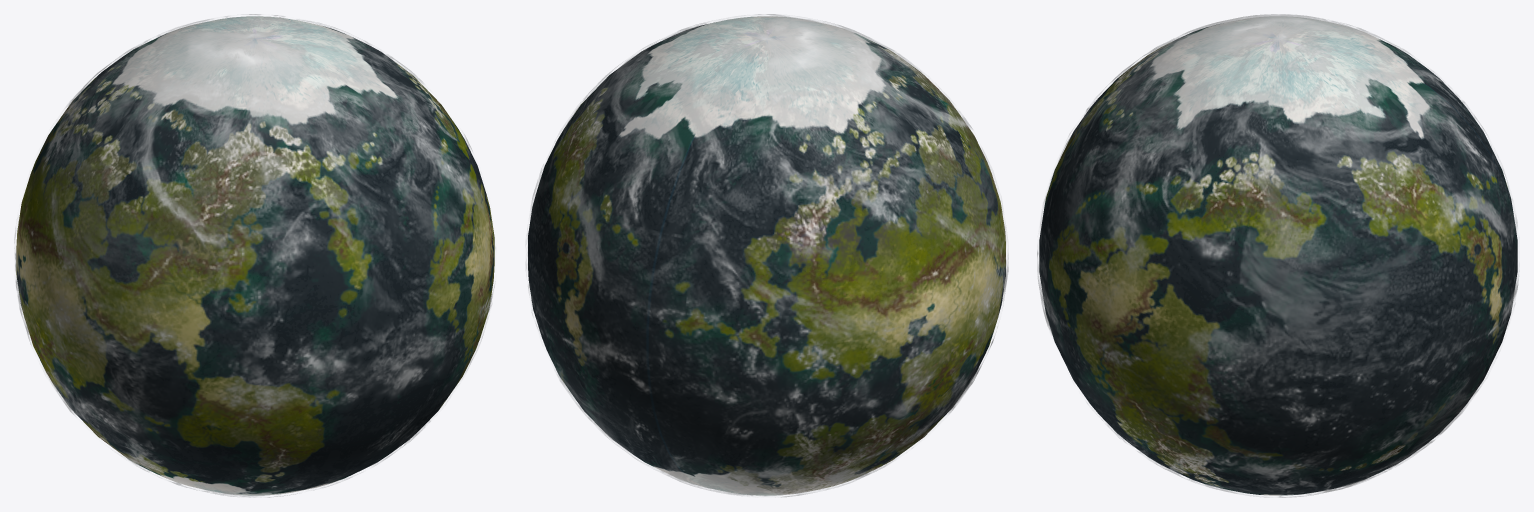
Rendered from horizon_world.glb.
3 renders of one model, left to right at view 1: azimuth 30°, elevation 25°; view 2: azimuth 150°, elevation 25°; view 3: azimuth 270°, elevation 25°, orthographic.
Visible parts, largest first — view 1: Sphere001, Sphere003; view 2: Sphere001, Sphere003; view 3: Sphere001, Sphere003.
Boxes of the visible parts, x1,y1,x2,y2 form: Sphere001: (16,16,494,495); Sphere003: (14,14,495,497); Sphere001: (528,16,1005,495); Sphere003: (526,14,1008,497); Sphere001: (1039,16,1517,495); Sphere003: (1037,14,1519,497).
Bounding box in the file's own units: 258 × 259 × 258.
3 materials, 3 textured.
